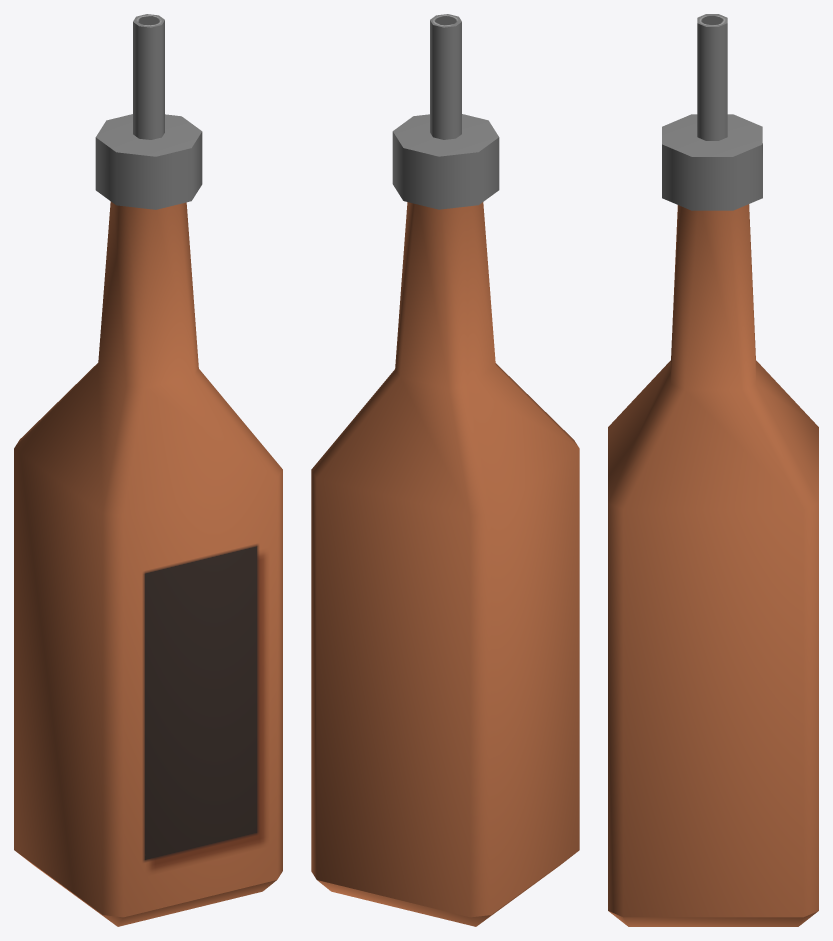
Rendered from syrup.FBX.
3 renders of one model, left to right at view 1: azimuth 30°, elevation 25°; view 2: azimuth 150°, elevation 25°; view 3: azimuth 270°, elevation 25°, orthographic.
Parts seen in each view (by area): view 1: syrup; view 2: syrup; view 3: syrup.
Part boxes in pixels (x1,y1,x2,y2): syrup: (14,14,282,926); syrup: (311,14,579,926); syrup: (608,14,818,926).
Bounding box in the file's own units: 8.37 × 38.1 × 8.37.
Materials: 1 (1 with a texture image).
